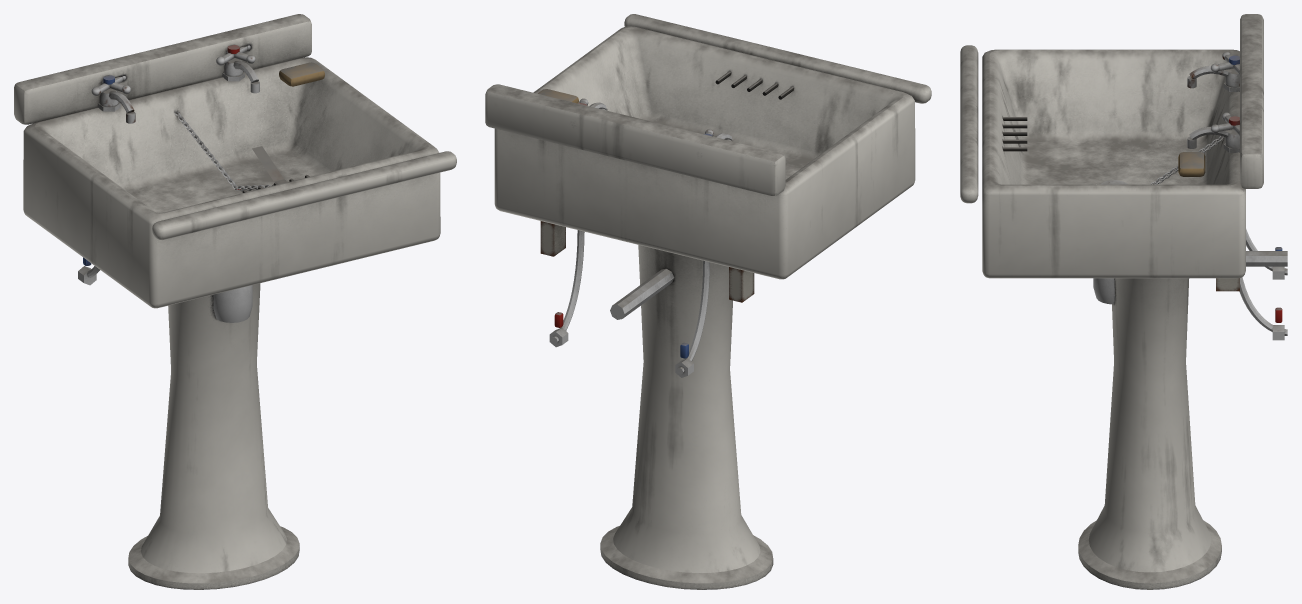
Rendered from SM_Washbasin_Pedestal.fbx.
The picture shows the model from 3 angles, left to right: view 1: azimuth 30°, elevation 25°; view 2: azimuth 150°, elevation 25°; view 3: azimuth 270°, elevation 25°; orthographic projection.
Parts seen in each view (by area): view 1: SM_Washbasin_Pedestal; view 2: SM_Washbasin_Pedestal; view 3: SM_Washbasin_Pedestal.
Boxes of the visible parts, left/top/right/bottom form: SM_Washbasin_Pedestal: left=14, top=14, right=456, bottom=589; SM_Washbasin_Pedestal: left=485, top=14, right=931, bottom=589; SM_Washbasin_Pedestal: left=960, top=14, right=1287, bottom=589.
Bounding box in the file's own units: 0.58 × 0.865 × 0.547.
Materials: 1 (1 with a texture image).
